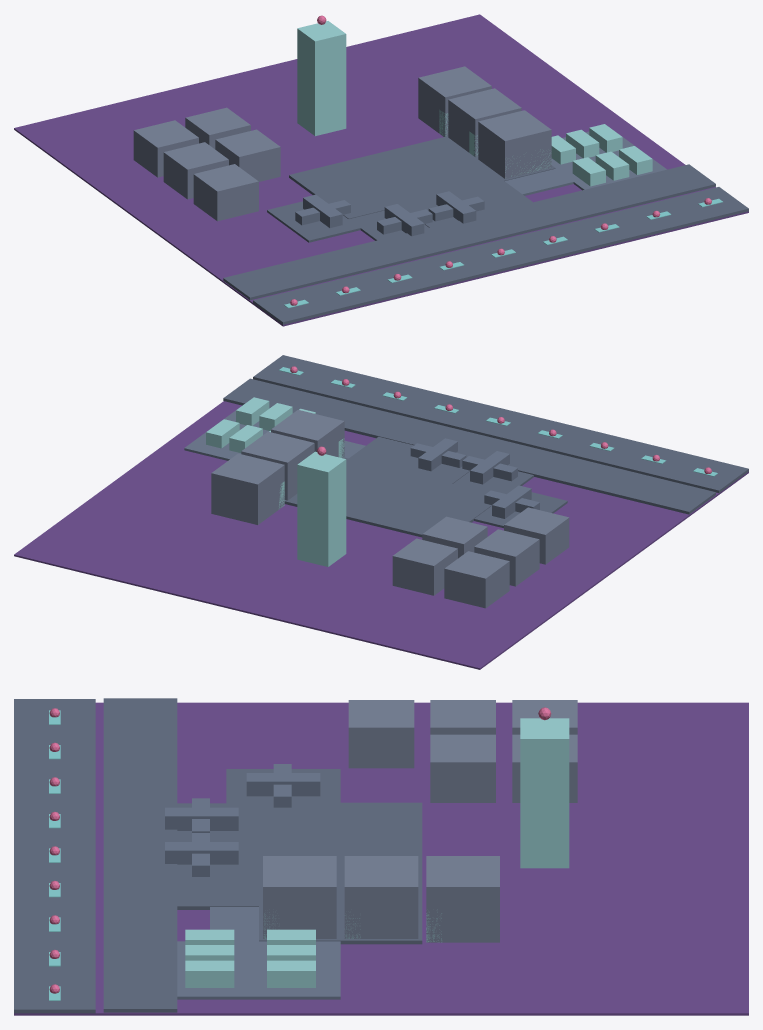
The model's file is stage_20.glb.
3 renders of one model, top to bottom at view 1: azimuth 30°, elevation 25°; view 2: azimuth 150°, elevation 25°; view 3: azimuth 270°, elevation 25°, orthographic. The views are drawn at different scales.
Visible parts, largest first — view 1: geometry_0; view 2: geometry_0; view 3: geometry_0.
Part boxes in pixels (x1,y1,x2,y2): geometry_0: (14, 14, 748, 326); geometry_0: (14, 355, 748, 669); geometry_0: (14, 698, 748, 1015).
Size of the model in its own units: 9 by 2.06 by 9.
